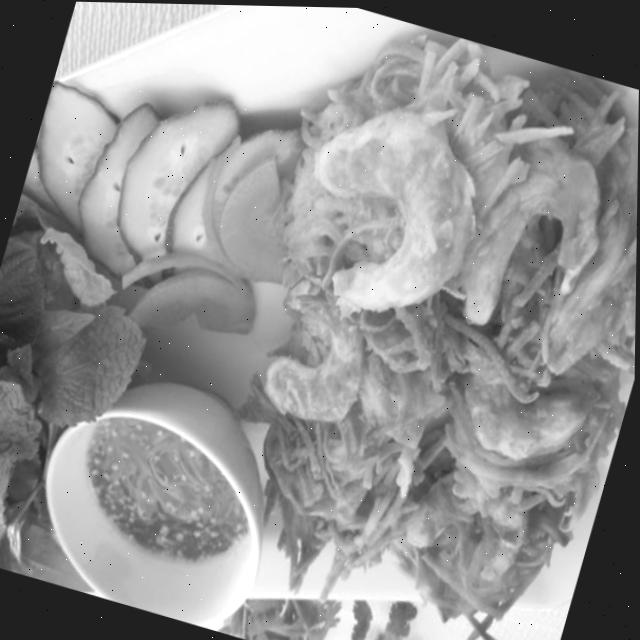炸货点心: (181, 3, 640, 640)
熟制海鲜: (181, 3, 640, 640)
